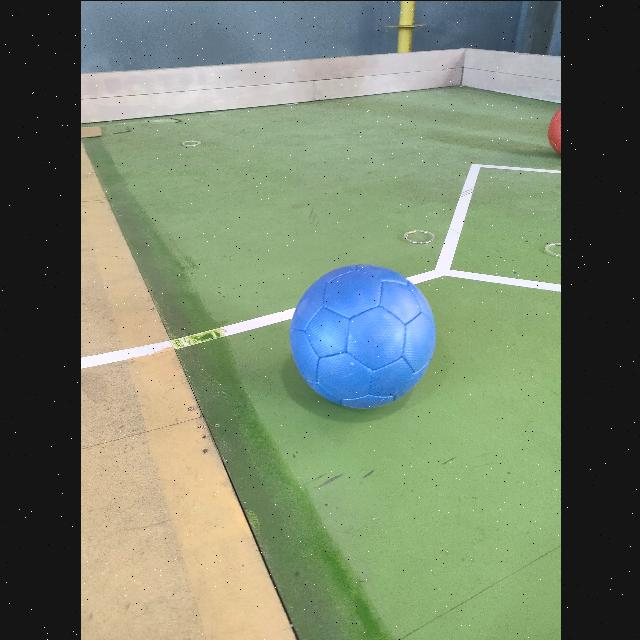B: (290, 264, 434, 406)
R: (546, 103, 560, 155)
